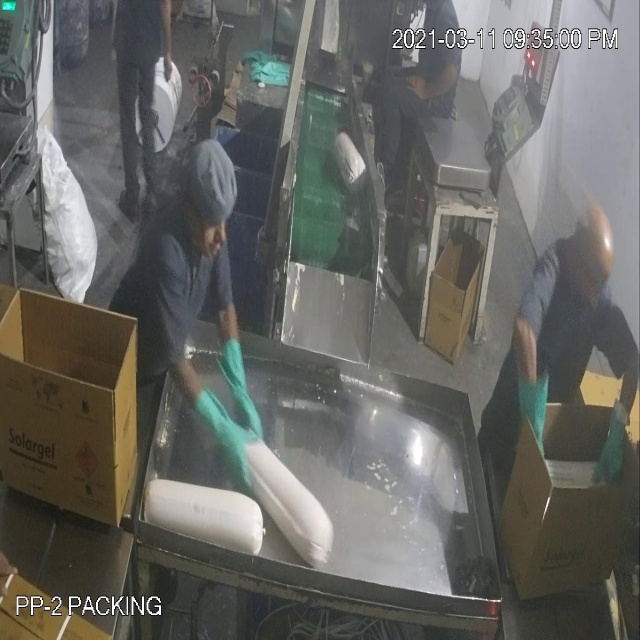Guantes: (594, 398, 638, 497), (222, 341, 266, 437), (399, 56, 463, 113), (157, 1, 177, 88)
